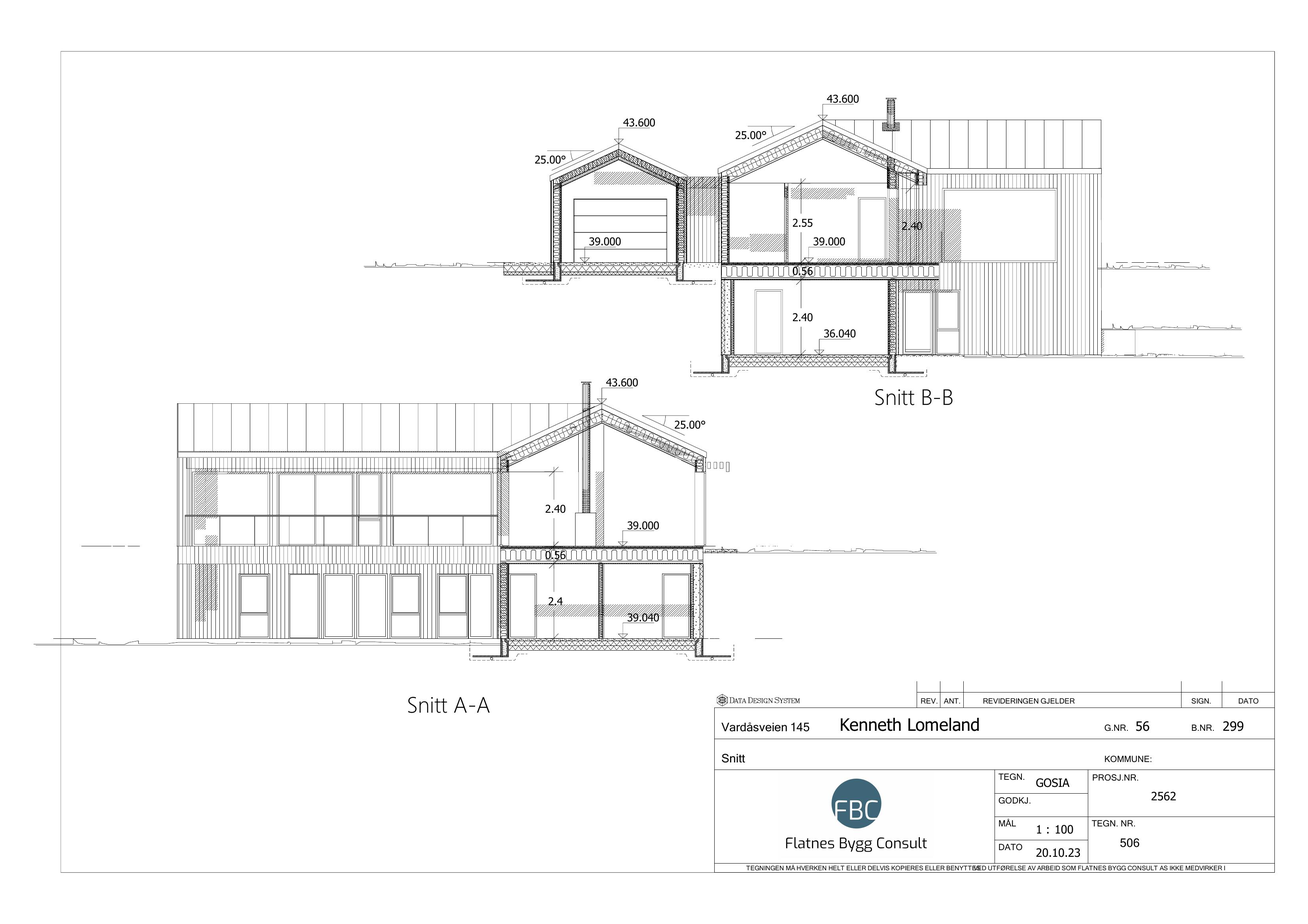snitt: (500, 85, 1117, 377), (162, 394, 746, 672)
